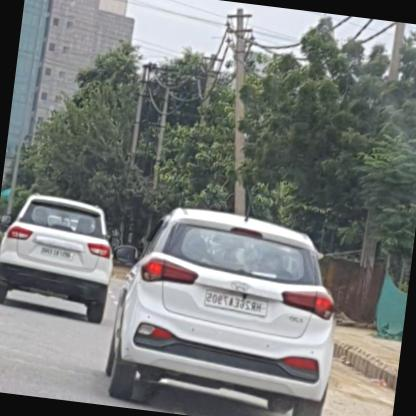car: (94, 198, 349, 415), (0, 189, 120, 324)
